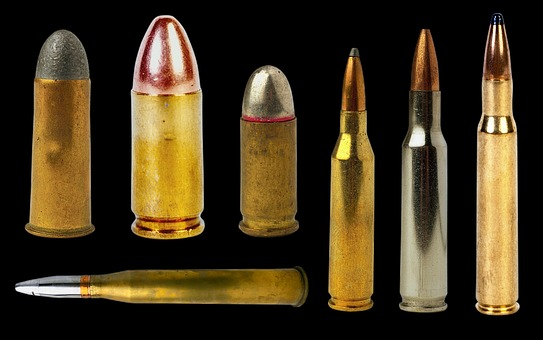bullet: (128, 12, 203, 242), (399, 24, 450, 315), (27, 27, 93, 237), (328, 43, 377, 316), (476, 9, 518, 319), (234, 61, 301, 239), (12, 266, 307, 306)
